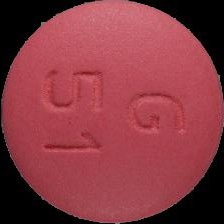68462-249: (0, 0, 224, 224)
